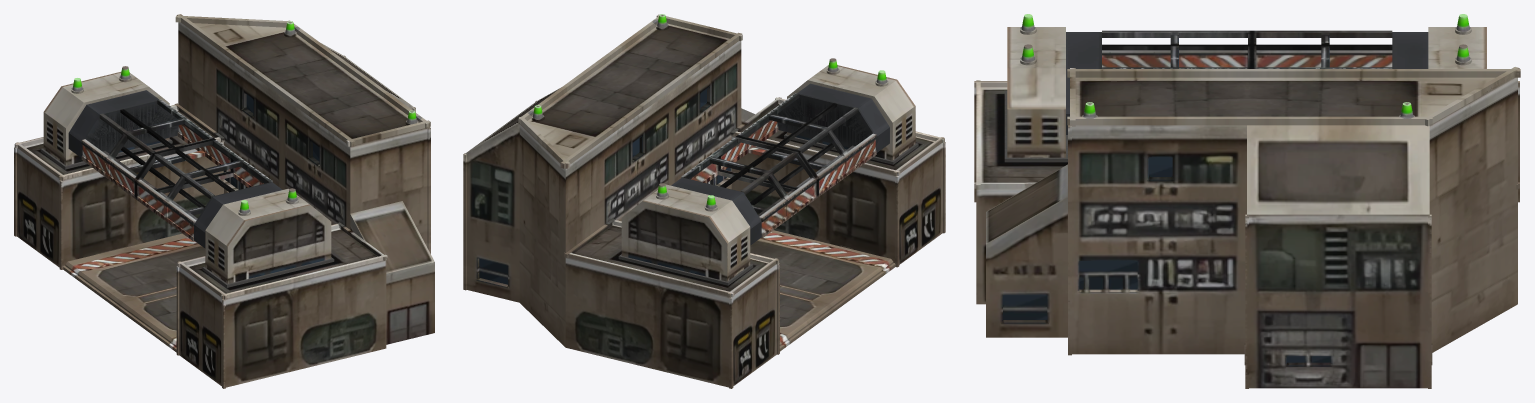
The model's file is repairbay_cad.glb.
The picture shows the model from 3 angles, left to right: view 1: azimuth 30°, elevation 25°; view 2: azimuth 150°, elevation 25°; view 3: azimuth 270°, elevation 25°; orthographic projection. The views are drawn at different scales.
Parts seen in each view (by area): view 1: RepairBay; view 2: RepairBay; view 3: RepairBay.
Boxes of the visible parts, x1,y1,x2,y2 form: RepairBay: (14,14,434,388); RepairBay: (463,14,945,388); RepairBay: (974,14,1520,388).
Bounding box in the file's own units: 16.02 × 9.68 × 19.6.
1 material, 1 textured.
